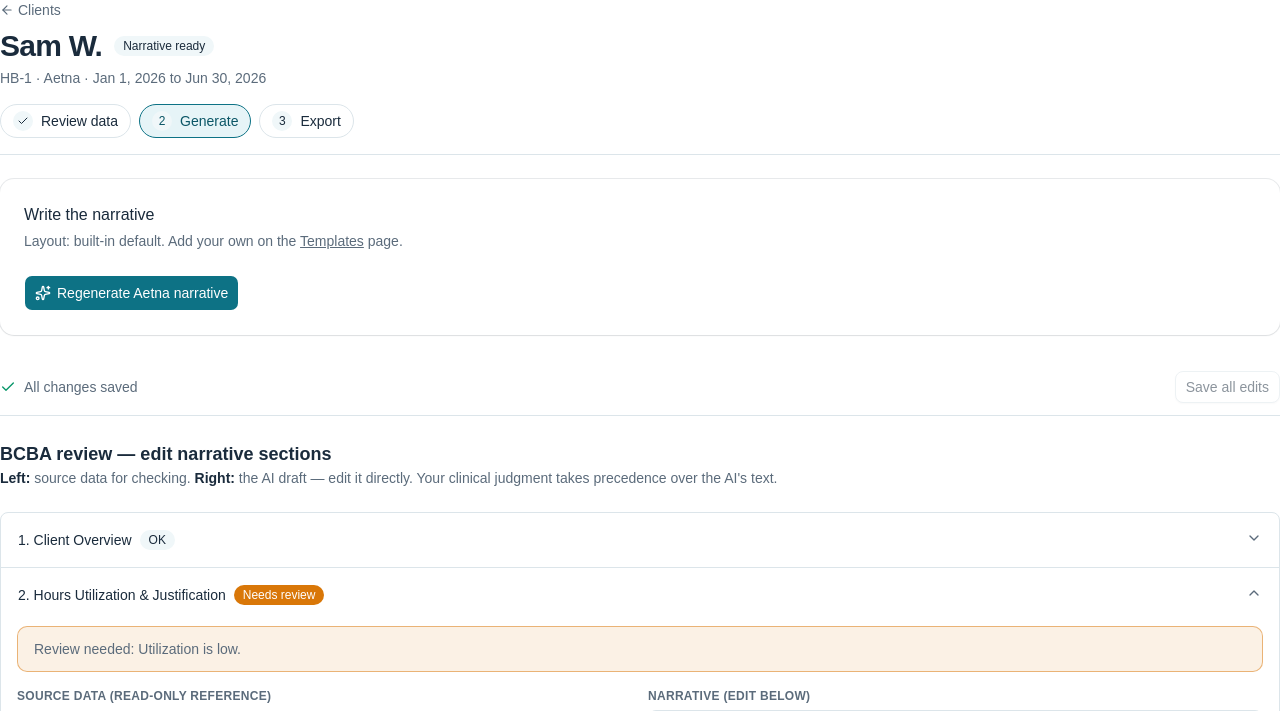
Test: Generate page › reports a failed generation and says the previous draft is untouched
Click the button "Regenerate Aetna narrative". click: (132, 293)
box: [24,275,239,311]
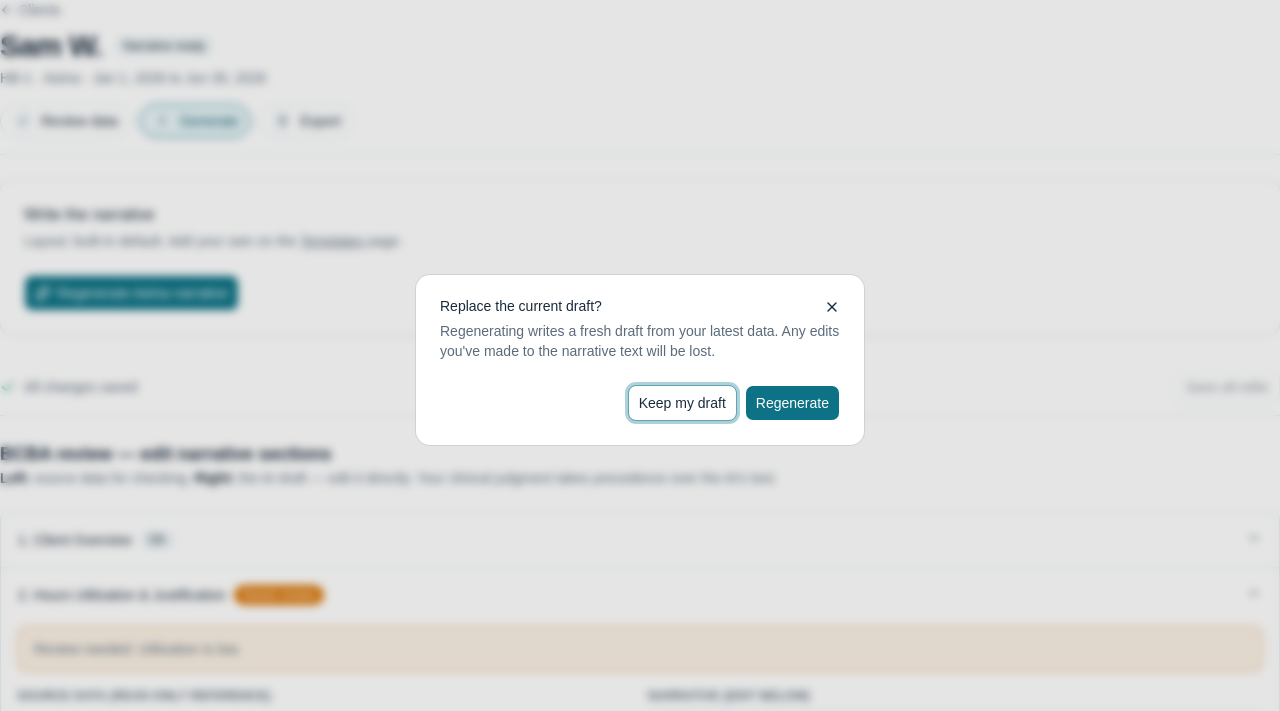
Click the button "Regenerate". click: (792, 403)
box: [745,385,840,421]
Wait 1600 ms
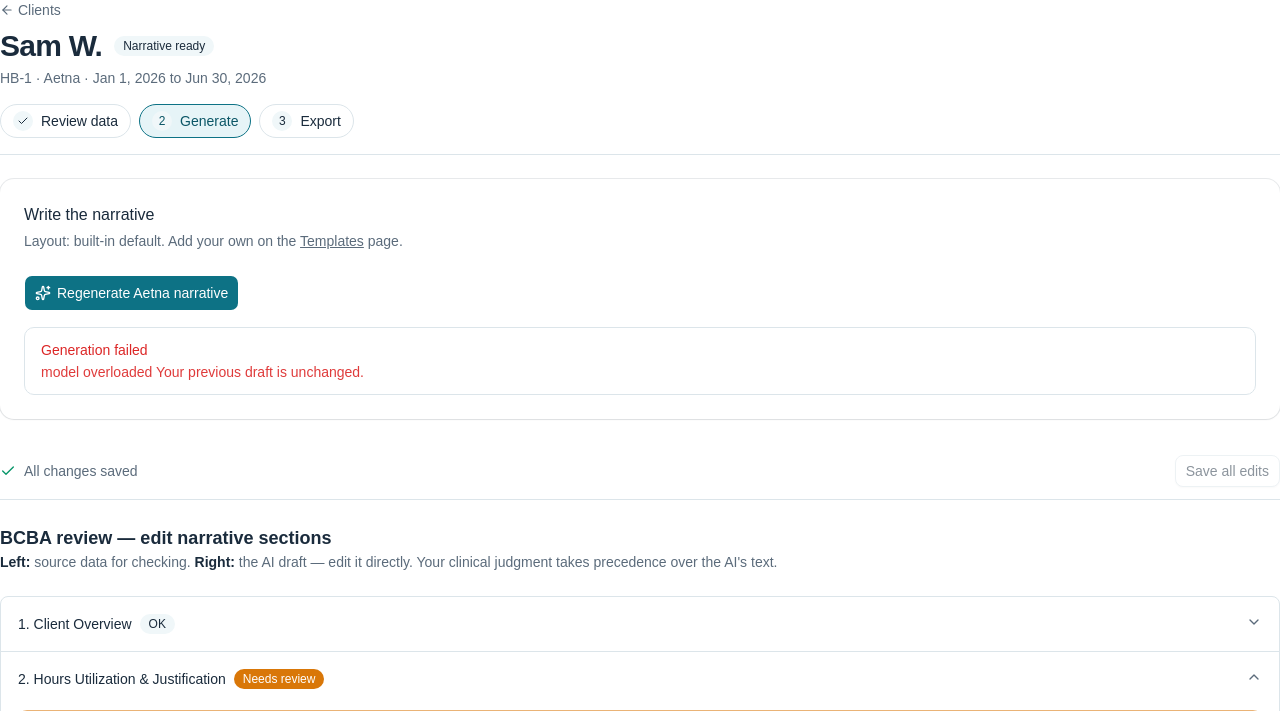
Expected: the text "Generation failed" is shown, [41,342,148,358]
Expected: the text "model overloaded Your previous draft is unchanged." is shown, [41,364,364,380]
